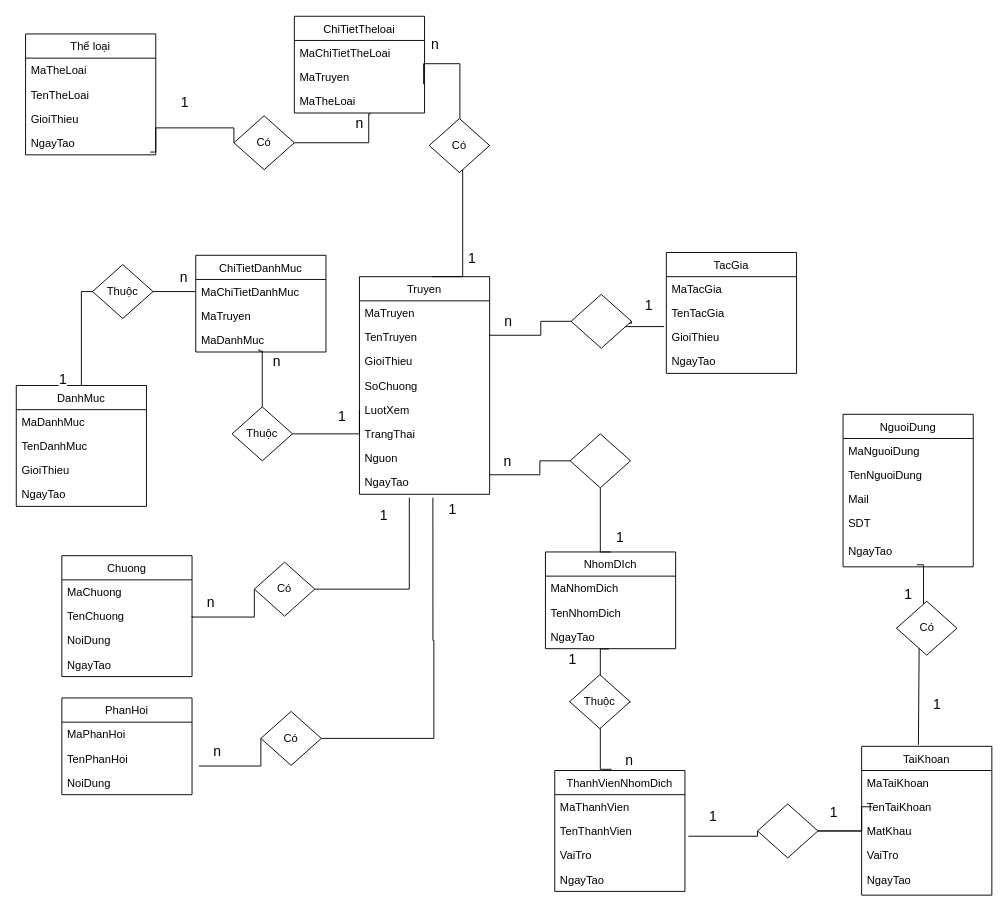
Some shapes in this 1008 by 914 pixel diagram are drawn without their labels. The centre of each missing label's shape, as x and y in pixels:
Dịch: the point at 600,460
Là: the point at 787,830
Sáng tác: the point at 600,320
